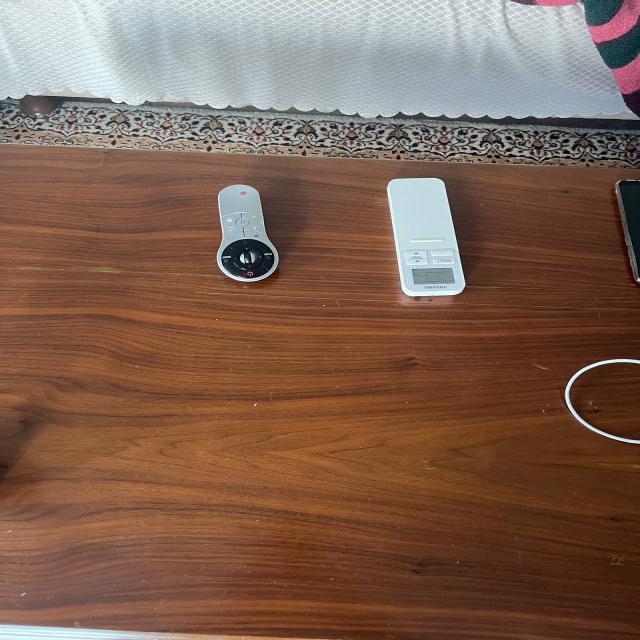remote: (377, 172, 472, 302), (203, 177, 288, 288)
